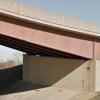Bridge: (5, 3, 97, 68)
